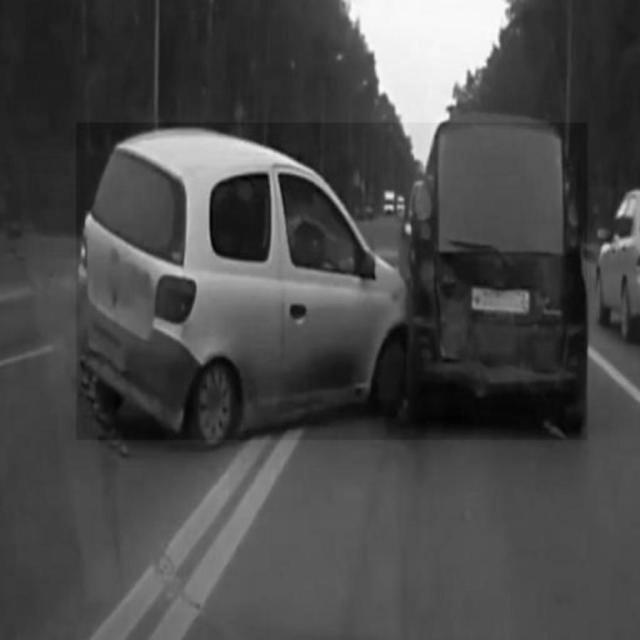accident: (77, 123, 587, 440)
vehicle: (591, 186, 640, 348)
